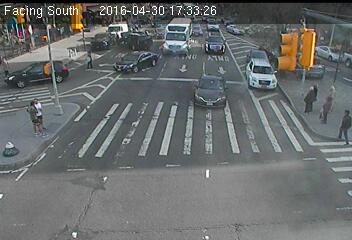neg: (78, 135, 112, 181), (234, 63, 265, 104), (176, 100, 205, 139), (22, 155, 51, 193), (135, 49, 159, 82), (29, 35, 53, 67), (151, 183, 175, 215), (129, 110, 152, 142), (248, 142, 269, 171), (70, 193, 91, 220), (196, 165, 216, 192), (215, 39, 230, 60), (98, 48, 113, 68), (201, 66, 213, 82), (278, 193, 290, 209)
pos: (309, 76, 340, 117), (323, 106, 350, 143), (20, 102, 45, 136), (302, 81, 325, 112), (83, 49, 100, 71)
